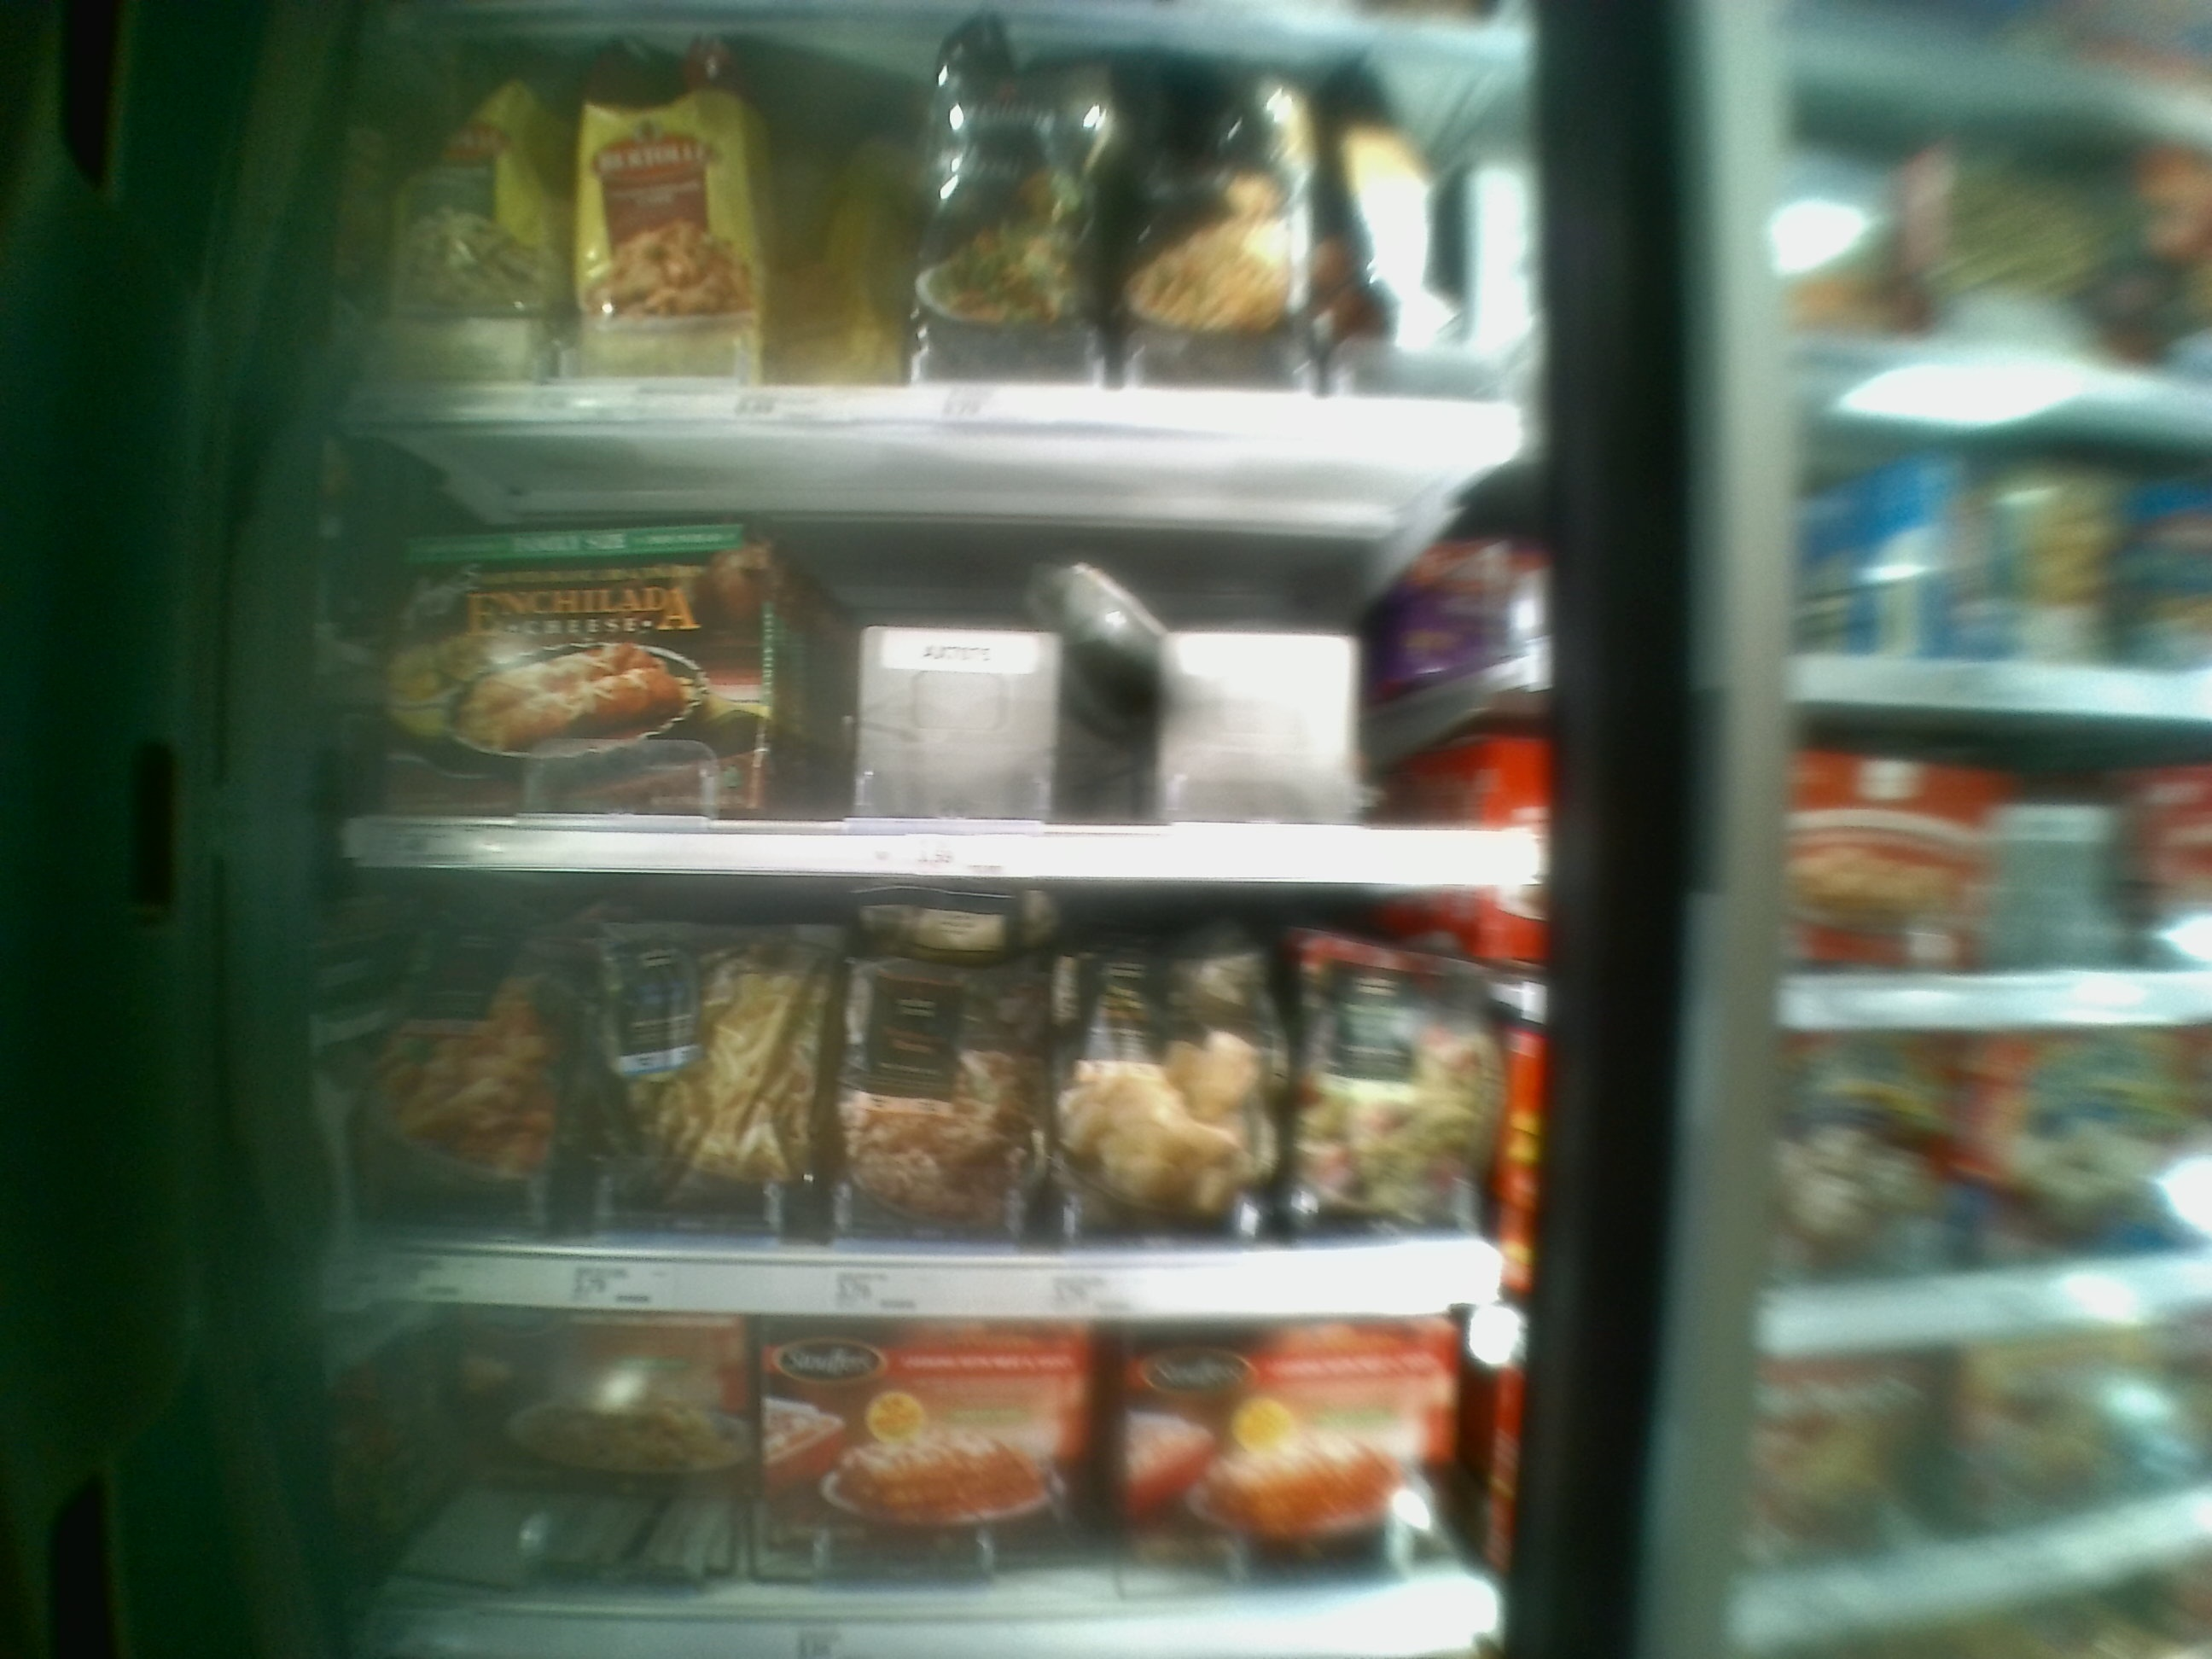frozen-food-shelf: (329, 880, 1489, 1316), (350, 448, 1486, 885)
